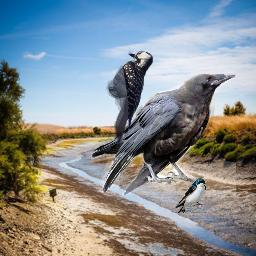Crow: (91, 72, 236, 195)
Swallow: (175, 178, 206, 213)
Woodpecker: (106, 46, 153, 150)
